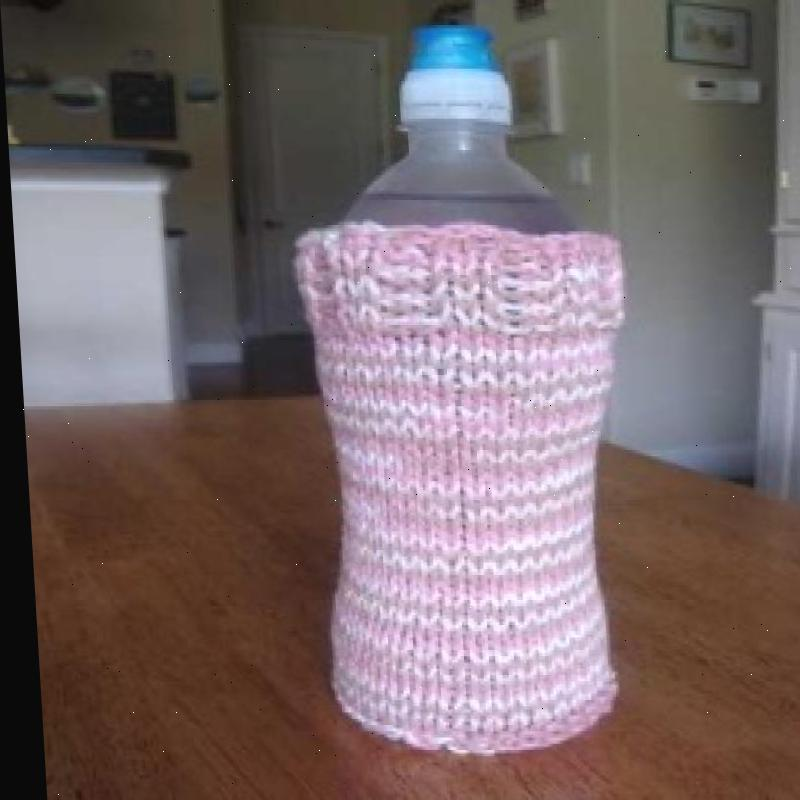botella: (320, 22, 578, 238)
